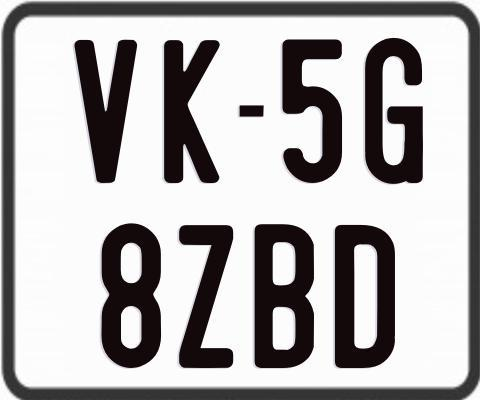5: (280, 39, 345, 187)
8: (101, 223, 162, 368)
B: (254, 224, 318, 374)
D: (332, 225, 394, 374)
G: (363, 37, 421, 184)
K: (163, 39, 225, 184)
V: (71, 40, 138, 185)
Z: (177, 224, 233, 370)
